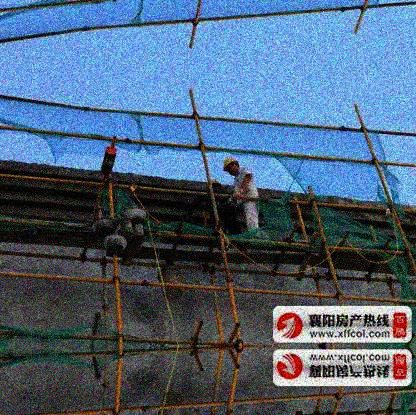helmet: (222, 156, 240, 178), (208, 178, 225, 191)
